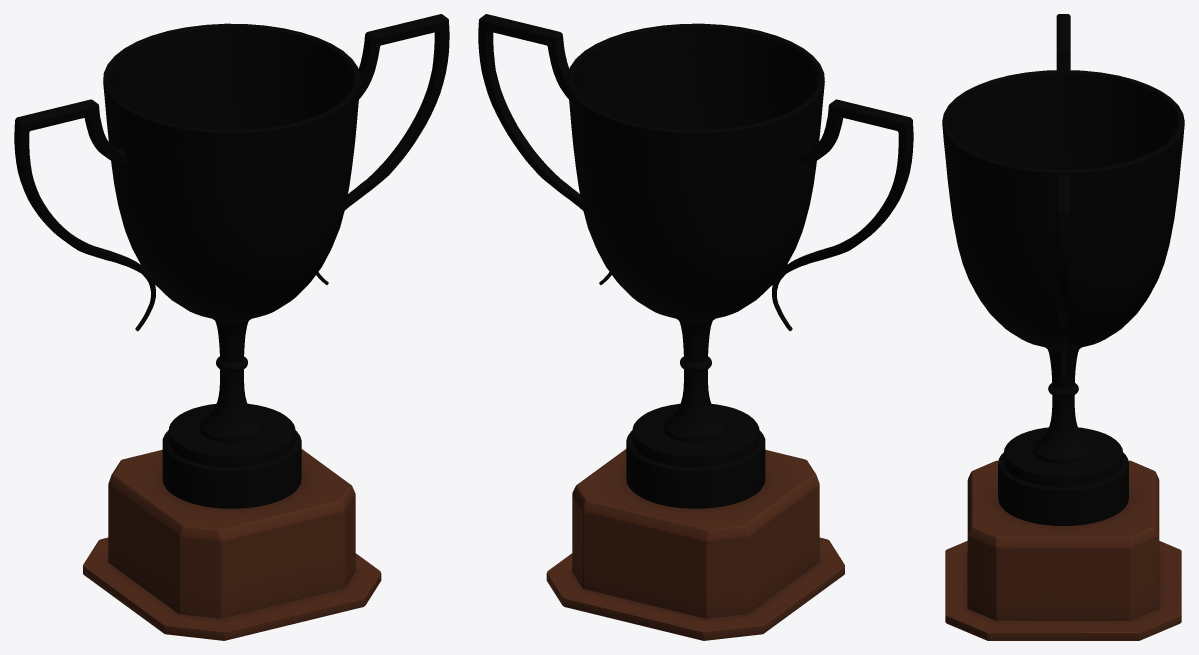
The model's file is gold_trophy.glb.
The picture shows the model from 3 angles, left to right: view 1: azimuth 30°, elevation 25°; view 2: azimuth 150°, elevation 25°; view 3: azimuth 270°, elevation 25°; orthographic projection. The views are drawn at different scales.
Visible parts, largest first — view 1: trophy.1; view 2: trophy.1; view 3: trophy.1.
Part boxes in pixels (<box>): trophy.1: <box>14,14,449,640</box>; trophy.1: <box>478,14,913,640</box>; trophy.1: <box>942,14,1184,640</box>.
Bounding box in the file's own units: 0.0417 × 0.0474 × 0.0217.
Materials: 1 (1 with a texture image).
